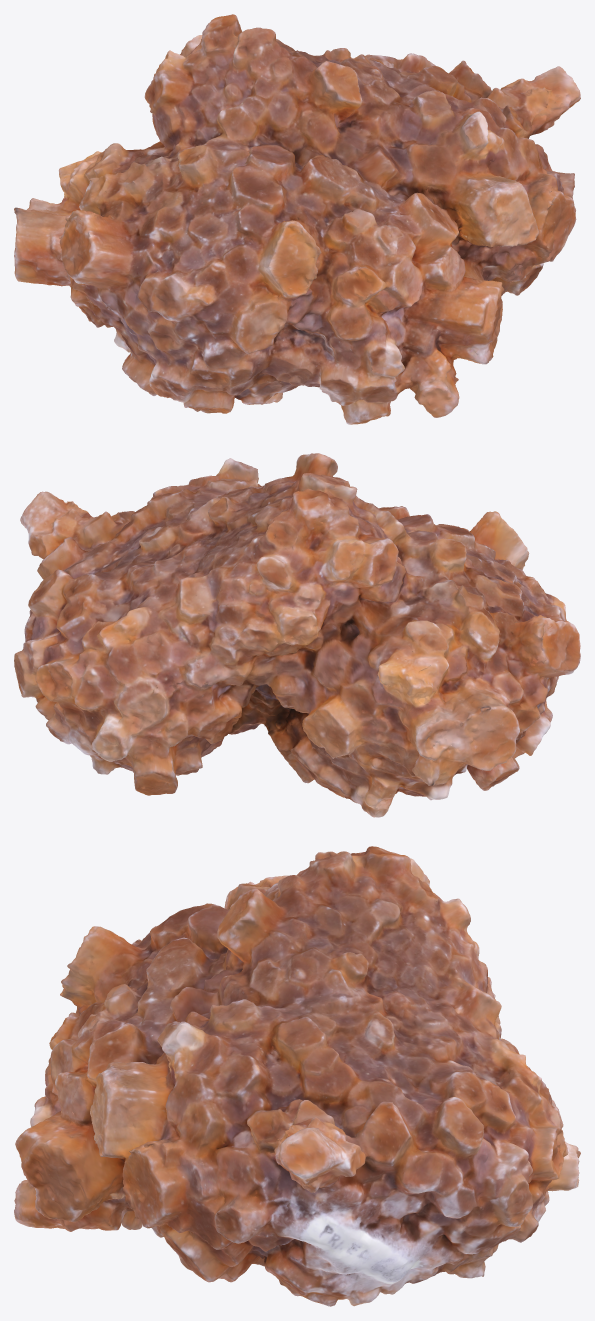
The model's file is aragonite.glb.
3 renders of one model, top to bottom at view 1: azimuth 30°, elevation 25°; view 2: azimuth 150°, elevation 25°; view 3: azimuth 270°, elevation 25°, orthographic. The views are drawn at different scales.
Parts seen in each view (by area): view 1: Object_3, Object_2, Object_4; view 2: Object_2, Object_3, Object_4; view 3: Object_2, Object_3, Object_4.
Part boxes in pixels (x1=…): Object_3: x1=14, y1=14, x2=547, y2=424; Object_2: x1=154, y1=27, x2=580, y2=402; Object_4: x1=182, y1=14, x2=493, y2=402; Object_2: x1=14, y1=453, x2=368, y2=795; Object_3: x1=218, y1=453, x2=580, y2=817; Object_4: x1=265, y1=459, x2=356, y2=790; Object_2: x1=15, y1=852, x2=580, y2=1306; Object_3: x1=14, y1=846, x2=487, y2=1229; Object_4: x1=14, y1=847, x2=478, y2=1230.
Bounding box in the file's own units: 2.44 × 1.46 × 1.98.
1 material, 1 textured.
